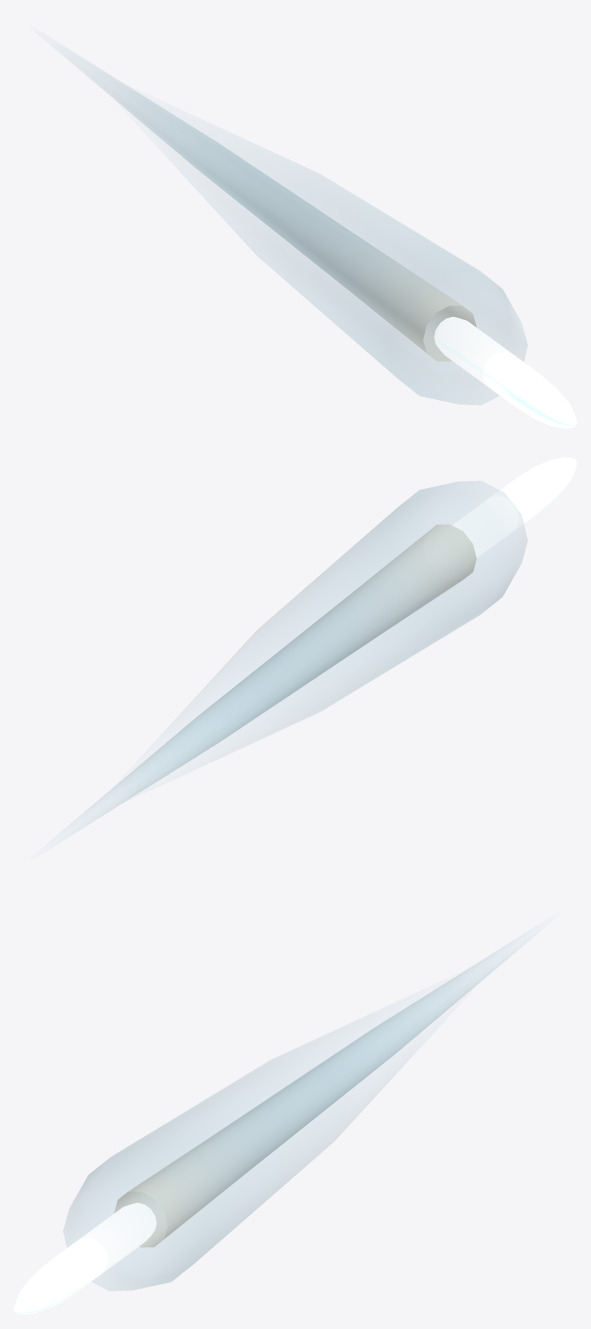
File: bullet_sniper.glb
The picture shows the model from 3 angles, top to bottom: view 1: azimuth 30°, elevation 25°; view 2: azimuth 150°, elevation 25°; view 3: azimuth 330°, elevation 25°; orthographic projection.
Parts seen in each view (by area): view 1: glow, trail, body; view 2: glow, trail, body; view 3: glow, trail, body.
Boxes of the visible parts, x1,y1,x2,y2 form: glow: (167,118,527,404); trail: (56,44,476,361); body: (434,316,576,428); glow: (167,481,527,767); trail: (56,524,476,841); body: (452,457,576,557); glow: (63,1004,423,1290); trail: (114,930,534,1247); body: (14,1202,156,1314).
Bounding box in the file's own units: 0.306 × 0.306 × 2.45.
